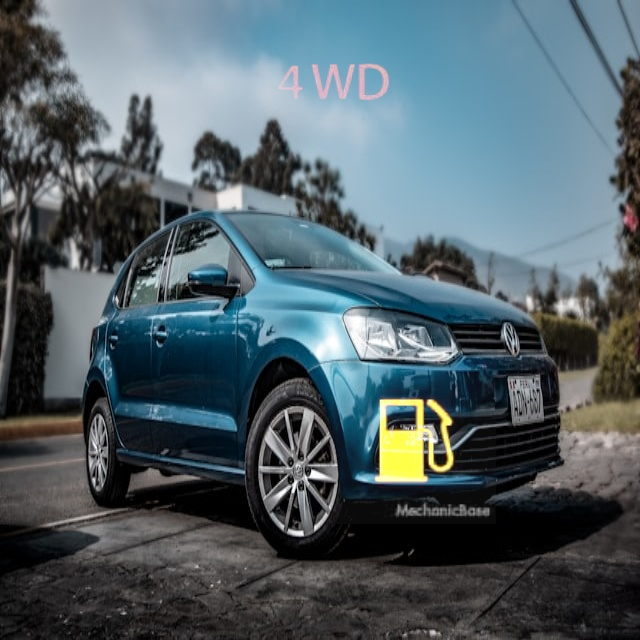symbol: (332, 360, 496, 524), (262, 13, 403, 154)
